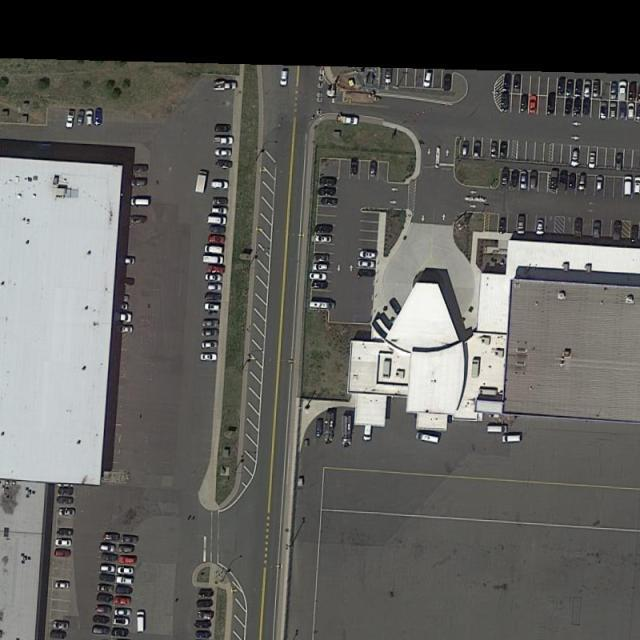vehicle: (322, 410, 337, 443), (341, 416, 353, 448), (415, 432, 442, 445), (309, 299, 334, 313), (194, 169, 208, 194), (201, 254, 226, 265), (110, 311, 132, 323), (546, 94, 558, 115), (203, 245, 225, 256), (363, 420, 373, 442), (422, 70, 434, 88), (206, 216, 227, 226), (550, 170, 560, 191), (618, 82, 629, 101), (558, 77, 569, 96), (319, 196, 339, 206), (210, 180, 230, 190), (613, 222, 623, 242), (573, 218, 583, 238), (312, 235, 334, 244), (442, 74, 453, 92), (65, 111, 76, 129), (216, 159, 234, 170), (208, 235, 226, 246), (51, 620, 70, 630), (92, 614, 111, 624), (559, 171, 569, 190), (623, 177, 633, 196), (137, 612, 146, 633), (112, 326, 135, 334), (98, 543, 118, 552), (92, 626, 110, 636), (318, 188, 338, 197), (201, 319, 221, 328), (340, 116, 360, 125), (571, 148, 581, 166), (530, 170, 539, 190), (517, 215, 526, 235), (593, 222, 602, 242), (502, 435, 522, 444), (566, 78, 576, 96), (127, 179, 149, 187), (487, 426, 509, 434), (120, 534, 139, 543), (116, 577, 135, 586), (359, 250, 378, 259), (357, 269, 376, 278), (315, 225, 334, 234), (214, 149, 233, 158), (574, 97, 583, 116), (584, 97, 593, 116), (618, 102, 627, 121), (50, 630, 67, 640), (472, 141, 482, 158), (76, 110, 86, 127), (202, 328, 219, 338), (615, 154, 625, 171), (568, 174, 578, 191), (130, 198, 151, 206), (310, 281, 328, 290), (461, 139, 470, 157), (118, 277, 136, 286), (94, 108, 103, 126), (216, 137, 234, 146), (610, 81, 619, 99), (575, 78, 584, 96), (278, 70, 288, 86), (206, 266, 226, 274), (578, 174, 588, 190), (630, 82, 638, 102), (115, 597, 132, 606), (316, 420, 325, 437), (201, 341, 218, 350), (201, 353, 218, 362), (130, 216, 147, 225), (118, 257, 135, 266), (113, 294, 130, 303), (627, 103, 636, 120), (565, 97, 574, 114), (52, 549, 71, 557), (102, 533, 121, 541), (194, 631, 213, 639), (203, 274, 222, 282), (593, 79, 601, 98), (584, 79, 592, 98), (514, 74, 522, 93), (356, 260, 377, 267), (117, 566, 135, 574), (57, 497, 75, 505), (100, 554, 118, 562), (99, 573, 115, 582), (95, 606, 113, 614), (112, 303, 128, 312), (369, 162, 378, 178), (204, 304, 222, 312), (210, 206, 228, 214), (219, 82, 237, 90), (204, 294, 222, 302), (210, 225, 226, 234), (589, 152, 597, 170), (601, 101, 609, 119), (490, 142, 499, 158), (502, 168, 510, 186), (537, 219, 546, 235), (530, 96, 538, 114), (521, 95, 529, 113), (502, 92, 510, 110), (385, 67, 393, 85), (318, 178, 338, 185), (58, 509, 75, 517), (53, 582, 70, 590), (57, 488, 74, 496), (120, 556, 137, 564), (116, 586, 133, 594), (310, 273, 327, 281), (113, 618, 130, 626), (97, 584, 114, 592), (97, 594, 114, 602), (214, 125, 231, 133), (597, 176, 605, 193), (512, 171, 520, 188), (207, 282, 222, 291), (630, 226, 639, 241), (99, 565, 118, 572), (521, 170, 528, 189), (118, 545, 134, 553), (314, 254, 330, 262), (198, 612, 214, 620), (198, 599, 214, 607), (198, 589, 214, 597), (86, 110, 94, 126), (351, 161, 359, 177), (212, 198, 228, 206), (610, 102, 618, 118), (498, 218, 506, 234), (56, 530, 74, 537), (55, 539, 73, 546), (311, 264, 329, 271), (195, 622, 213, 629), (112, 629, 130, 636), (129, 166, 150, 172), (504, 73, 511, 91), (114, 609, 131, 616), (501, 142, 508, 158), (634, 177, 640, 195), (636, 104, 640, 122), (638, 83, 640, 102)
